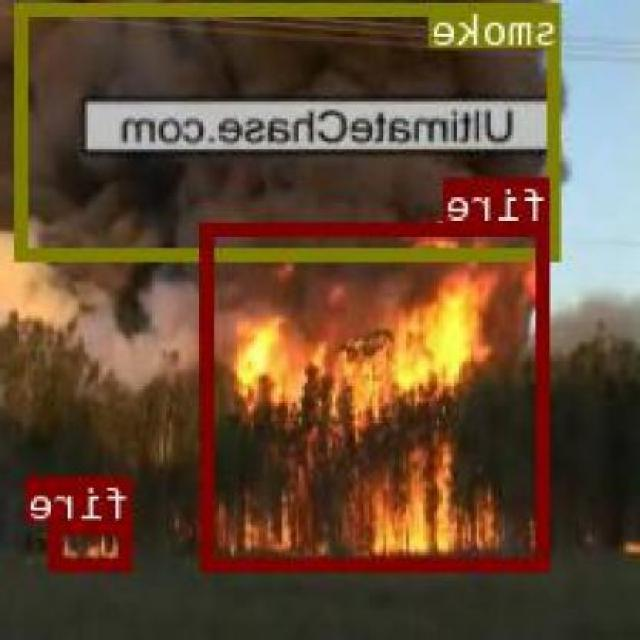Fire: (202, 250, 526, 567)
Smoke: (0, 0, 547, 350)
